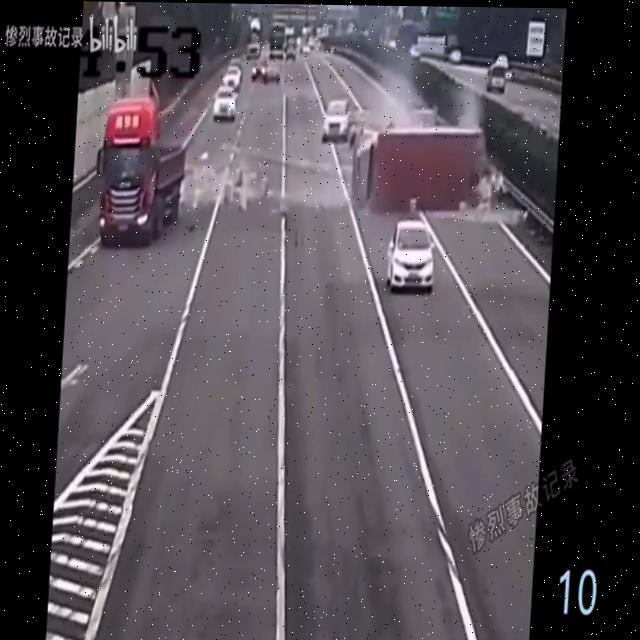multiple_accident: (322, 62, 534, 324)
